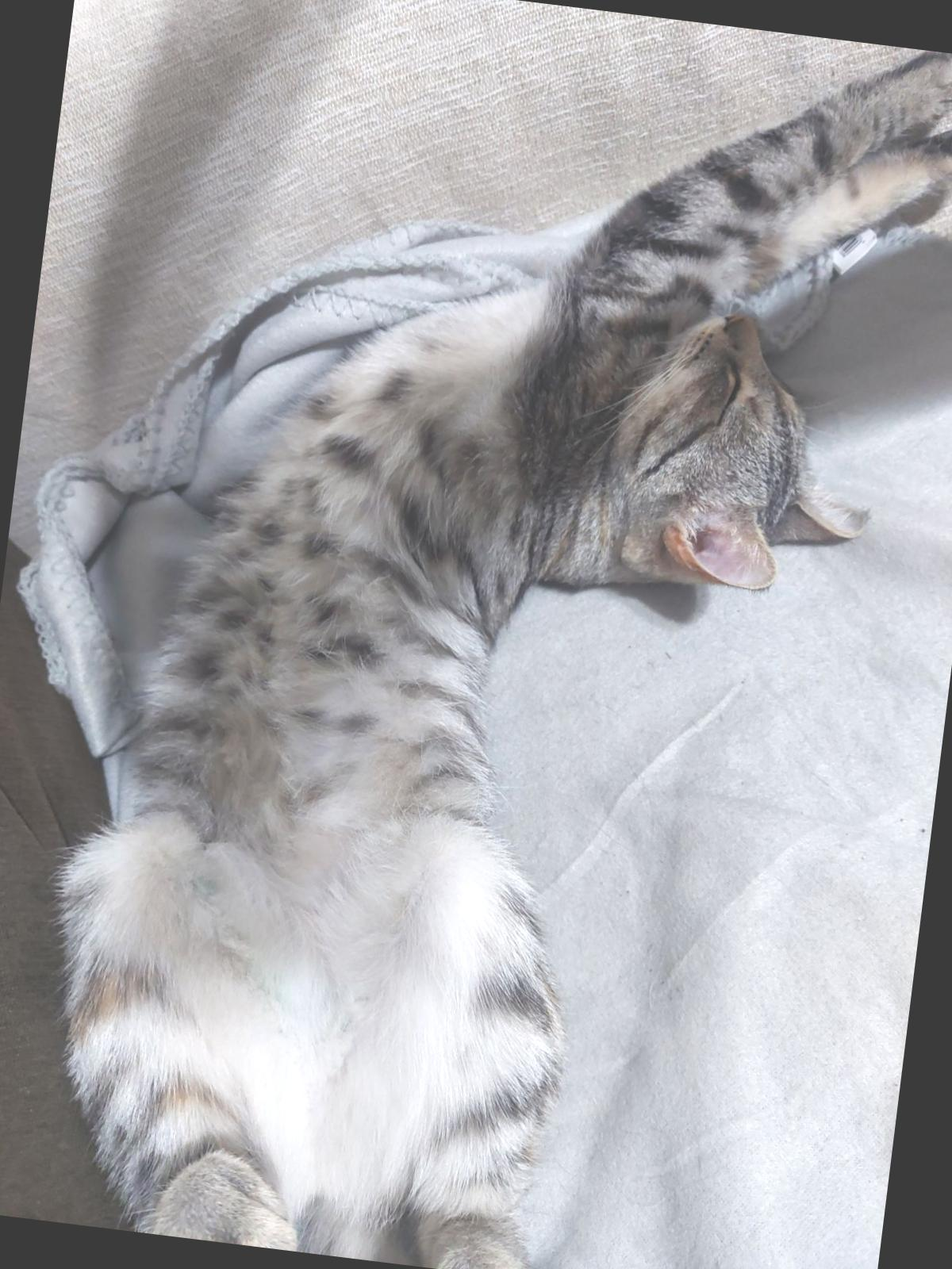macka: (25, 0, 952, 1269)
